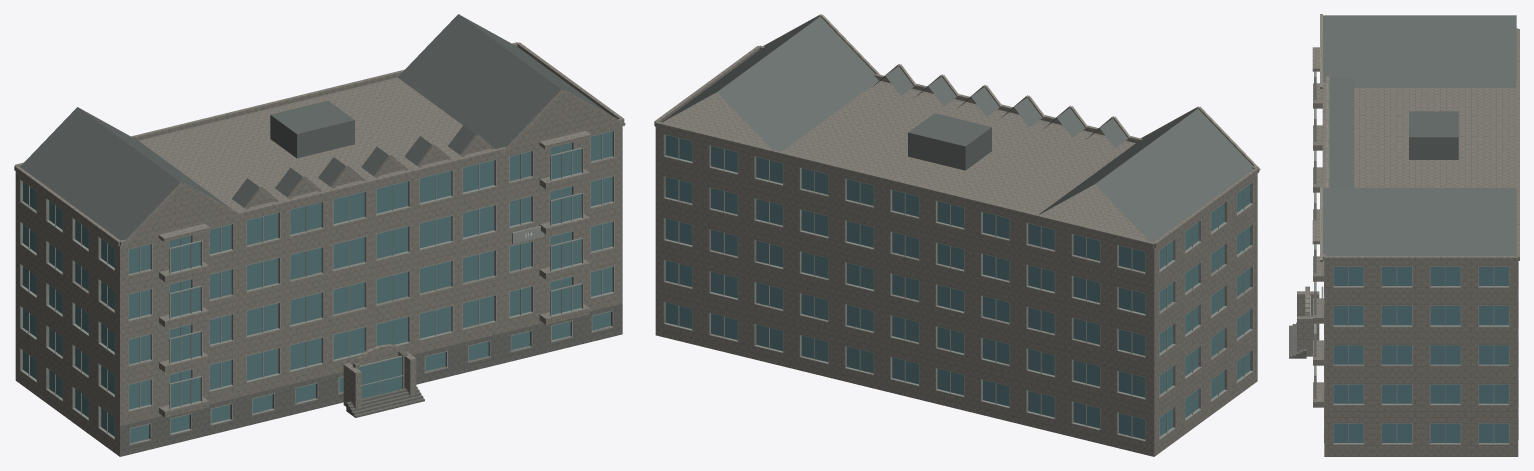
The picture shows the model from 3 angles, left to right: view 1: azimuth 30°, elevation 25°; view 2: azimuth 150°, elevation 25°; view 3: azimuth 270°, elevation 25°; orthographic projection. The views are drawn at different scales.
Visible parts, largest first — view 1: daewooAnnex__stone, daewooAnnex__glass, daewooAnnex__roof, daewooAnnex__frame, daewooAnnex__rough, daewooAnnex__cream; view 2: daewooAnnex__stone, daewooAnnex__glass, daewooAnnex__roof, daewooAnnex__frame, daewooAnnex__cream; view 3: daewooAnnex__stone, daewooAnnex__roof, daewooAnnex__glass, daewooAnnex__frame, daewooAnnex__cream, daewooAnnex__rough.
Boxes of the visible parts, x1,y1,x2,y2 form: daewooAnnex__stone: (14,42,624,456); daewooAnnex__glass: (23,131,612,442); daewooAnnex__roof: (20,14,610,240); daewooAnnex__frame: (20,130,614,445); daewooAnnex__rough: (120,304,622,456); daewooAnnex__cream: (120,89,625,408); daewooAnnex__stone: (654,45,1259,456); daewooAnnex__glass: (665,135,1250,439); daewooAnnex__roof: (662,16,1253,242); daewooAnnex__frame: (663,133,1253,441); daewooAnnex__cream: (763,14,1260,170); daewooAnnex__stone: (1313,28,1519,456); daewooAnnex__roof: (1323,15,1516,255); daewooAnnex__glass: (1333,267,1508,442); daewooAnnex__frame: (1310,71,1518,444); daewooAnnex__cream: (1297,14,1329,356); daewooAnnex__rough: (1289,322,1306,358).
Size of the model in its own units: 43.65 by 21.49 by 18.56.
Materials: 7 (3 with a texture image).
